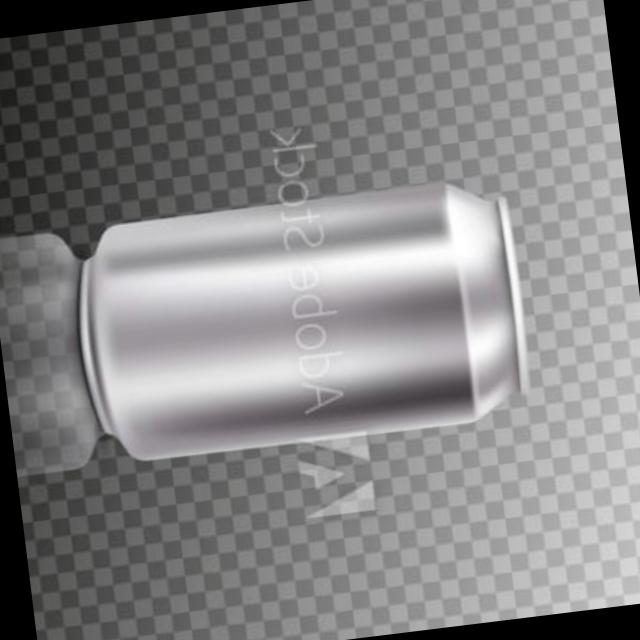metal: (82, 184, 528, 460)
